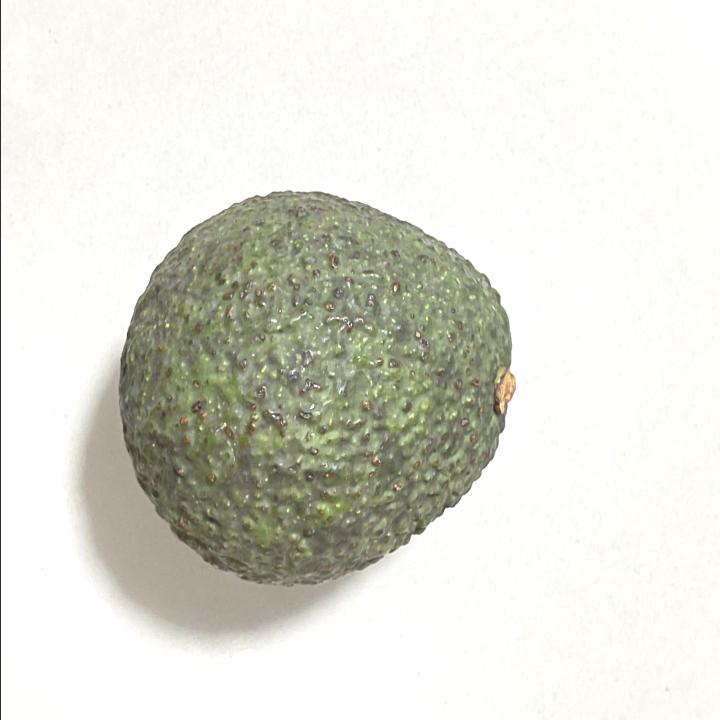Level1: (110, 178, 528, 598)
